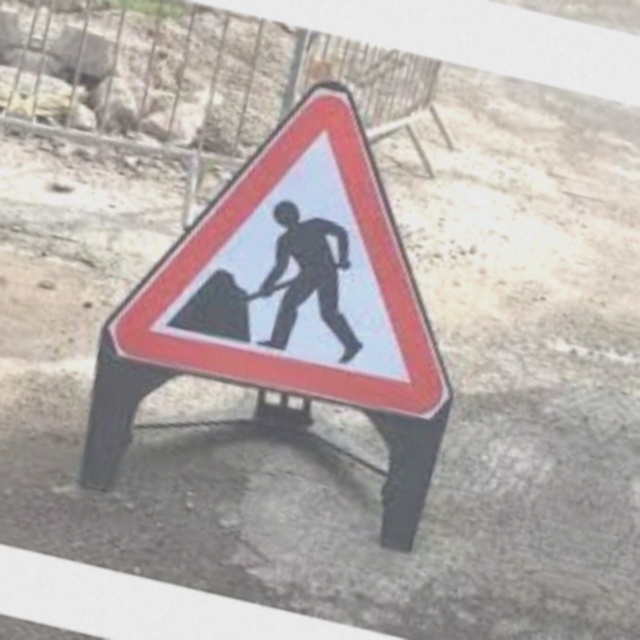Men_at_Work: (97, 40, 516, 426)
